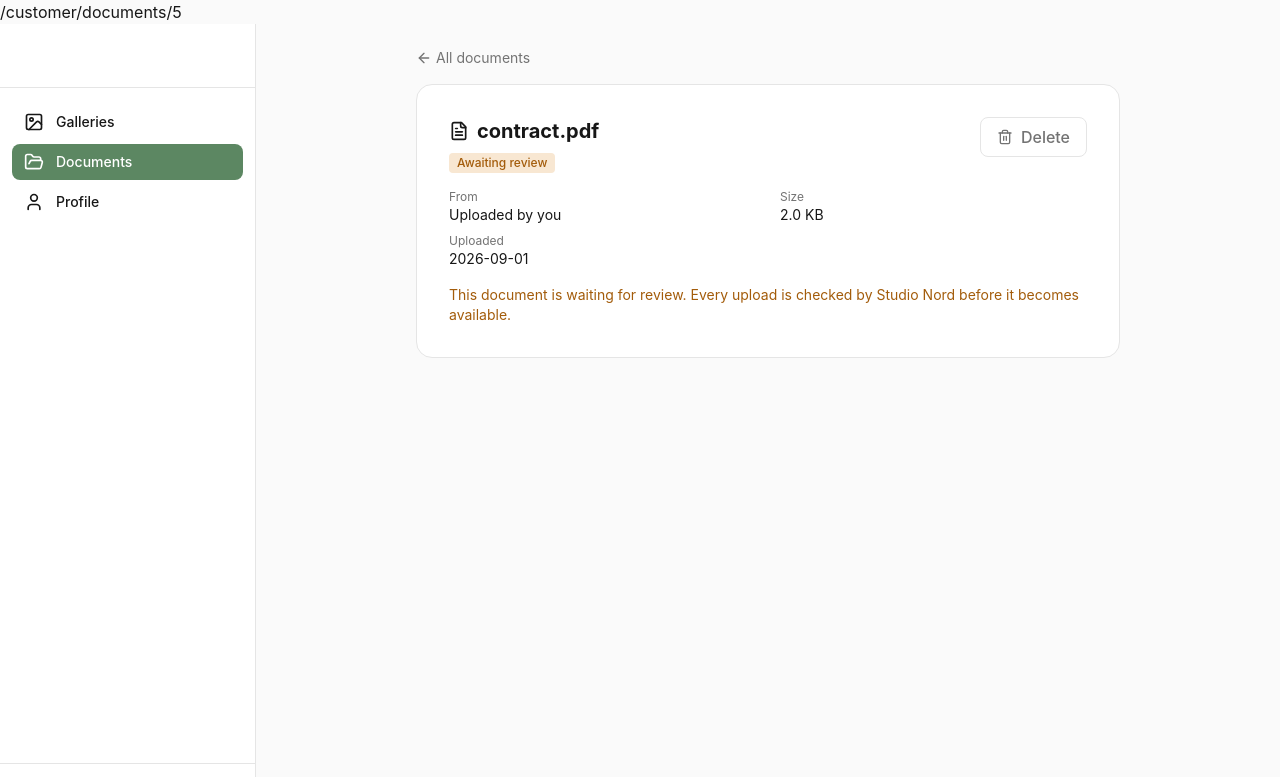
Scenario: CustomerDocumentPage › deletes an own upload after confirming and returns to the list
Click the button with aria-label "Delete contract.pdf": [1033, 137] box [980, 117, 1087, 157]
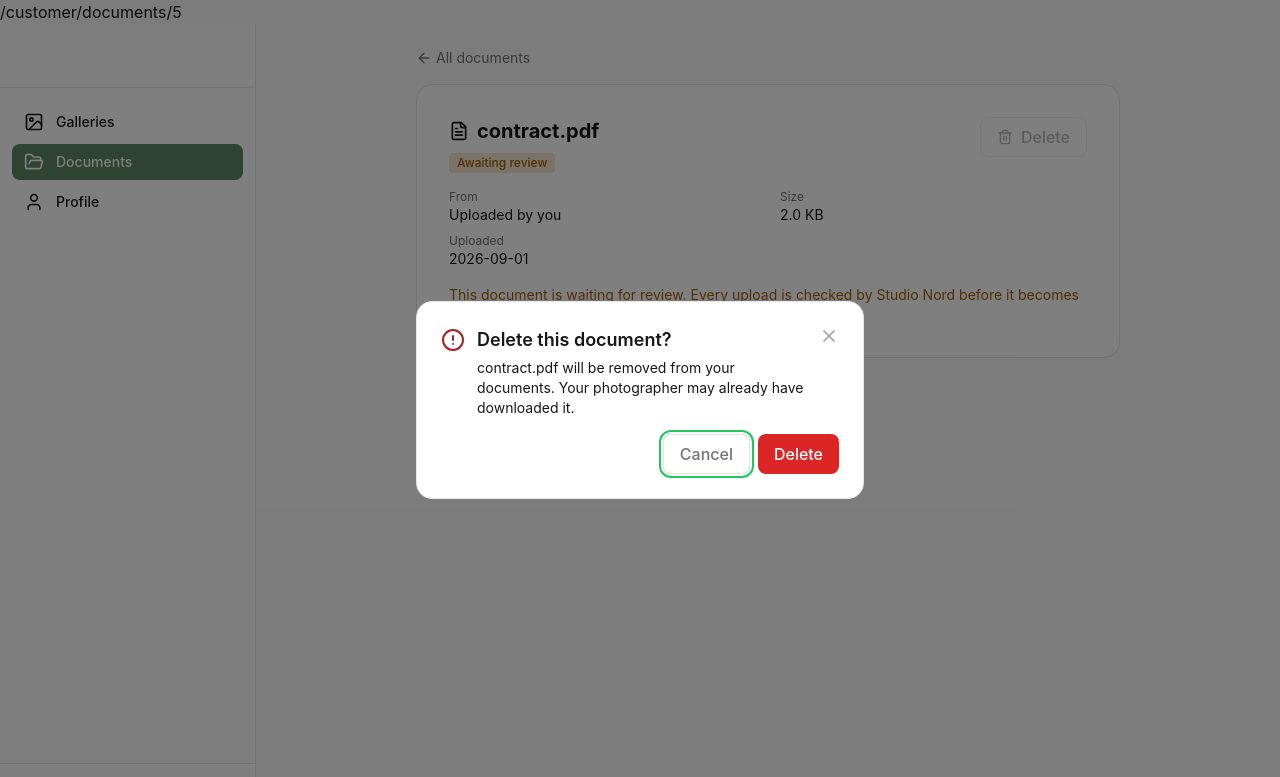
Click the button "Delete": [798, 454] box [758, 434, 839, 474]
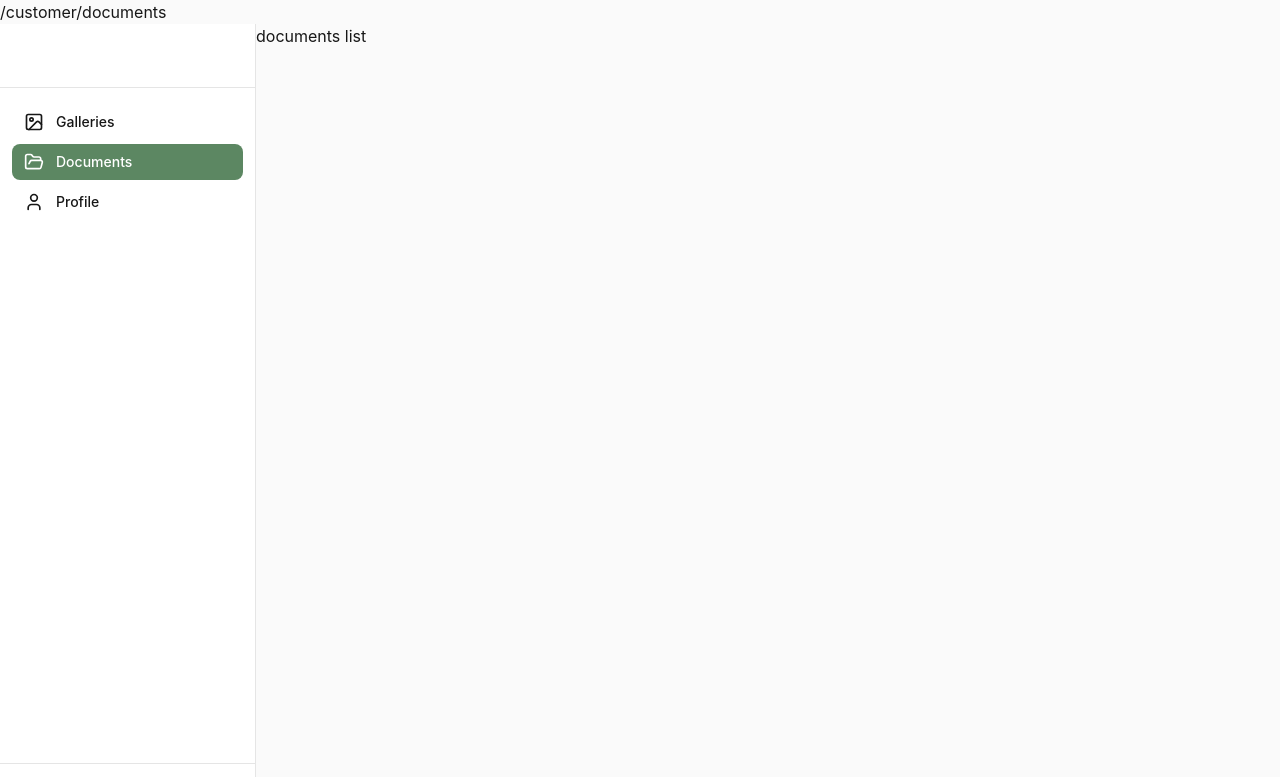
Expected: the text "documents list" is shown, [256, 26, 366, 46]
